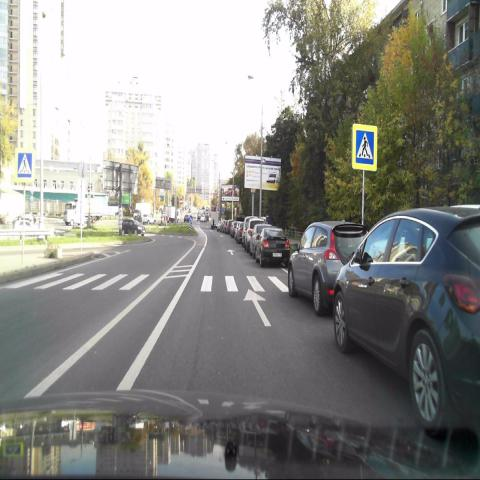5_19_1: (352, 124, 377, 171)
